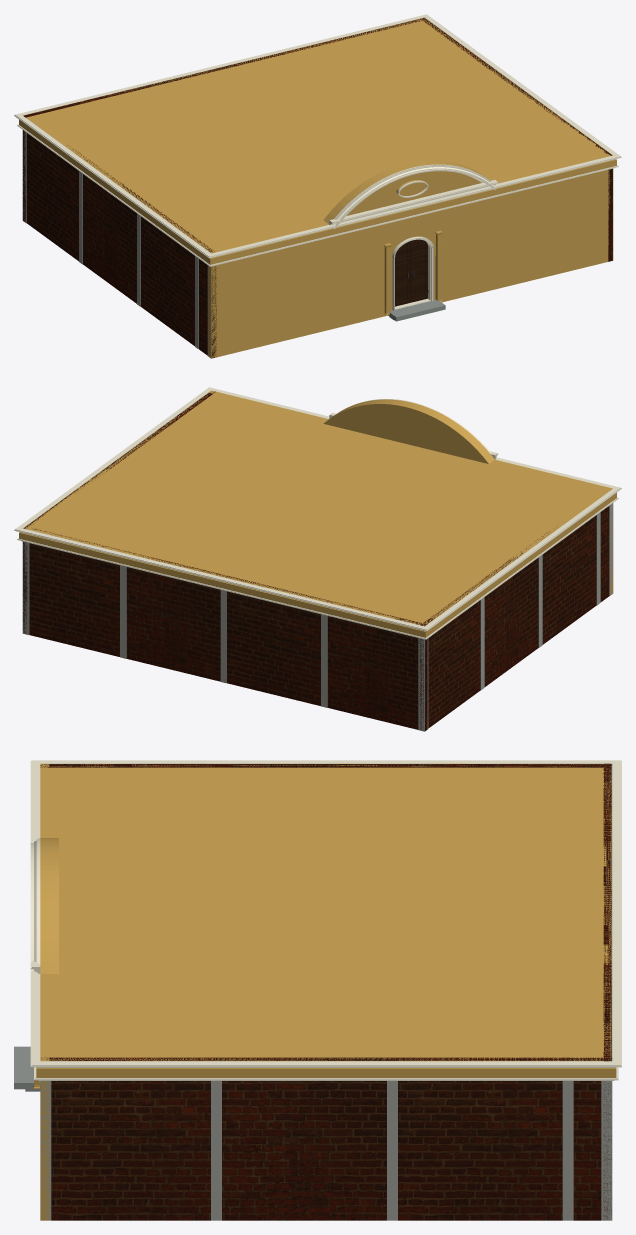
File: building.glb
The picture shows the model from 3 angles, top to bottom: view 1: azimuth 30°, elevation 25°; view 2: azimuth 150°, elevation 25°; view 3: azimuth 270°, elevation 25°; orthographic projection. The views are drawn at different scales.
Parts seen in each view (by area): view 1: roof/house:0/roof_slab#0001, house:0/edge0/z0/house:0/edge0/z0/wall_0_0, house:0/edge3/z0/house:0/edge3/z0/wall_0_0, entablature/entablamento/2/entablature_cornice#0001, entablature/entablamento/1/entablature_frieze#0001, crown/coronamiento/crown_body#0001, entablature/entablamento/0/entablature_architrave#0001, house:0/edge2/z0/house:0/edge2/z0/wall_0_0, crown/coronamiento/crown_moulding#0001, house:0/edge1/z0/house:0/edge1/z0/wall_0_0, crown/coronamiento/crown_base_cornice#0001, site/entrance/0/entrance_step#0002 (+1 smaller); view 2: roof/house:0/roof_slab#0001, house:0/edge2/z0/house:0/edge2/z0/wall_0_0, house:0/edge3/z0/house:0/edge3/z0/wall_0_0, entablature/entablamento/2/entablature_cornice#0001, crown/coronamiento/crown_body#0001, entablature/entablamento/1/entablature_frieze#0001, entablature/entablamento/0/entablature_architrave#0001, house:0/edge1/z0/house:0/edge1/z0/wall_0_0, house:0/edge0/z0/house:0/edge0/z0/wall_0_0, house:0/edge2/z0/house:0/edge2/z0/column_1_0, house:0/edge2/z0/house:0/edge2/z0/column_2_0, house:0/edge2/z0/house:0/edge2/z0/column_3_0 (+2 smaller); view 3: roof/house:0/roof_slab#0001, house:0/edge1/z0/house:0/edge1/z0/wall_0_0, entablature/entablamento/2/entablature_cornice#0001, entablature/entablamento/1/entablature_frieze#0001, house:0/edge0/z0/house:0/edge0/z0/wall_0_0, house:0/edge2/z0/house:0/edge2/z0/wall_0_0, crown/coronamiento/crown_body#0001, house:0/edge3/z0/house:0/edge3/z0/wall_0_0, entablature/entablamento/0/entablature_architrave#0001, house:0/edge1/z0/house:0/edge1/z0/column_4_0, house:0/edge1/z0/house:0/edge1/z0/column_1_0, house:0/edge1/z0/house:0/edge1/z0/column_2_0 (+4 smaller).
Part boxes in pixels (x1=…): roof/house:0/roof_slab#0001: x1=24, y1=18, x2=611, y2=253; house:0/edge0/z0/house:0/edge0/z0/wall_0_0: x1=208, y1=156, x2=613, y2=358; house:0/edge3/z0/house:0/edge3/z0/wall_0_0: x1=26, y1=133, x2=216, y2=357; entablature/entablamento/2/entablature_cornice#0001: x1=14, y1=14, x2=621, y2=258; entablature/entablamento/1/entablature_frieze#0001: x1=19, y1=119, x2=616, y2=264; crown/coronamiento/crown_body#0001: x1=323, y1=160, x2=486, y2=223; entablature/entablamento/0/entablature_architrave#0001: x1=17, y1=124, x2=618, y2=266; house:0/edge2/z0/house:0/edge2/z0/wall_0_0: x1=23, y1=18, x2=425, y2=222; crown/coronamiento/crown_moulding#0001: x1=331, y1=164, x2=495, y2=228; house:0/edge1/z0/house:0/edge1/z0/wall_0_0: x1=420, y1=17, x2=612, y2=261; crown/coronamiento/crown_base_cornice#0001: x1=329, y1=180, x2=498, y2=224; site/entrance/0/entrance_step#0002: x1=388, y1=299, x2=445, y2=321; roof/house:0/roof_slab#0001: x1=25, y1=391, x2=610, y2=626; house:0/edge2/z0/house:0/edge2/z0/wall_0_0: x1=29, y1=528, x2=427, y2=731; house:0/edge3/z0/house:0/edge3/z0/wall_0_0: x1=419, y1=506, x2=609, y2=729; entablature/entablamento/2/entablature_cornice#0001: x1=14, y1=387, x2=621, y2=631; crown/coronamiento/crown_body#0001: x1=323, y1=400, x2=494, y2=463; entablature/entablamento/1/entablature_frieze#0001: x1=19, y1=492, x2=616, y2=637; entablature/entablamento/0/entablature_architrave#0001: x1=17, y1=497, x2=618, y2=639; house:0/edge1/z0/house:0/edge1/z0/wall_0_0: x1=23, y1=391, x2=215, y2=633; house:0/edge0/z0/house:0/edge0/z0/wall_0_0: x1=209, y1=390, x2=613, y2=595; house:0/edge2/z0/house:0/edge2/z0/column_1_0: x1=418, y1=638, x2=424, y2=731; house:0/edge2/z0/house:0/edge2/z0/column_2_0: x1=120, y1=565, x2=126, y2=658; house:0/edge2/z0/house:0/edge2/z0/column_3_0: x1=220, y1=590, x2=226, y2=683; roof/house:0/roof_slab#0001: x1=40, y1=763, x2=612, y2=1061; house:0/edge1/z0/house:0/edge1/z0/wall_0_0: x1=41, y1=1057, x2=612, y2=1220; entablature/entablamento/2/entablature_cornice#0001: x1=30, y1=760, x2=621, y2=1067; entablature/entablamento/1/entablature_frieze#0001: x1=36, y1=1067, x2=616, y2=1077; house:0/edge0/z0/house:0/edge0/z0/wall_0_0: x1=40, y1=763, x2=49, y2=1220; house:0/edge2/z0/house:0/edge2/z0/wall_0_0: x1=603, y1=763, x2=611, y2=1219; crown/coronamiento/crown_body#0001: x1=42, y1=838, x2=58, y2=973; house:0/edge3/z0/house:0/edge3/z0/wall_0_0: x1=40, y1=764, x2=611, y2=767; entablature/entablamento/0/entablature_architrave#0001: x1=34, y1=1067, x2=618, y2=1080; house:0/edge1/z0/house:0/edge1/z0/column_4_0: x1=562, y1=1081, x2=573, y2=1220; house:0/edge1/z0/house:0/edge1/z0/column_1_0: x1=601, y1=1081, x2=612, y2=1220; house:0/edge1/z0/house:0/edge1/z0/column_2_0: x1=211, y1=1081, x2=221, y2=1220.
Size of the model in its own units: 16.44 by 5.46 by 13.82.
Materials: 8 (2 with a texture image).
